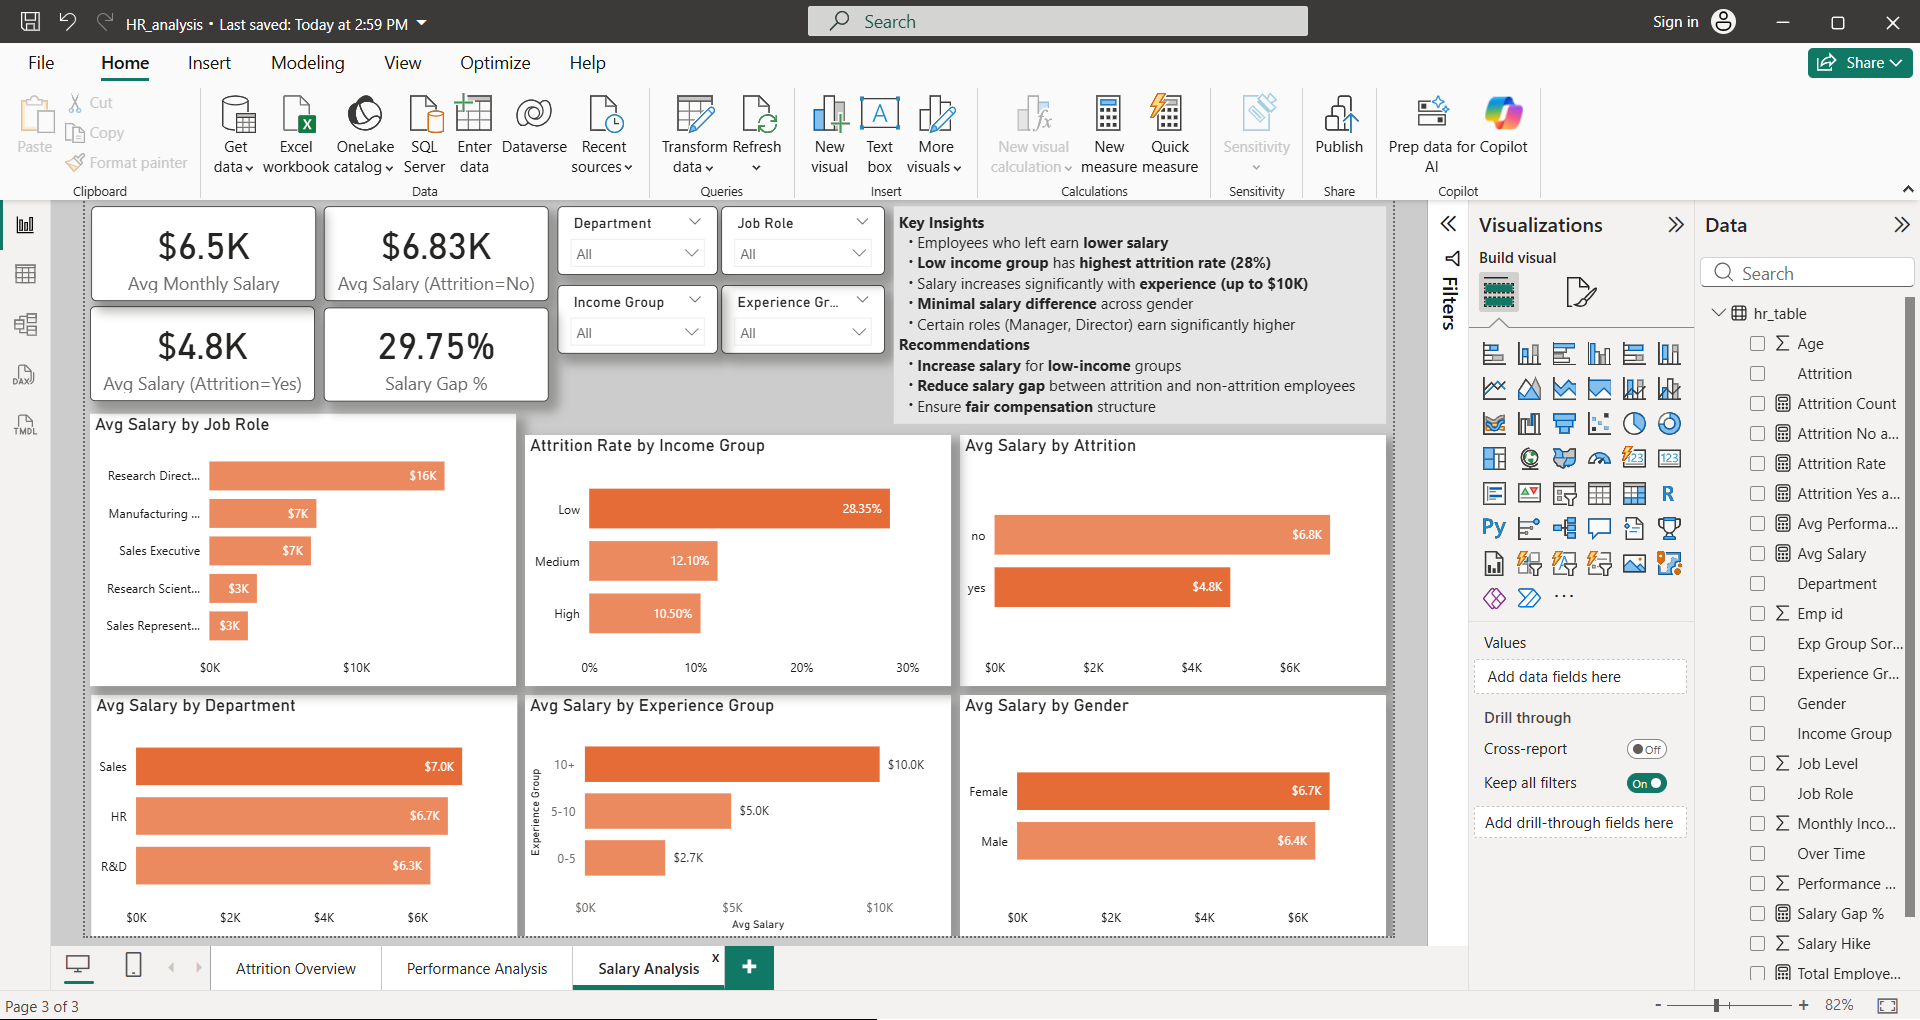

The page's visual inventory and layout, read from the dashboard file:
{"tool":"powerbi","page":{"name":"Salary Analysis","canvas":[1280,720],"ordinal":2},"visuals":[{"type":"barChart","fields":{"Y":["hr_table.Avg Salary"],"Category":["hr_table.Attrition"]},"box":[856,229.9,417,245.8],"z":0},{"type":"clusteredBarChart","fields":{"Category":["hr_table.Department"],"Y":["hr_table.Avg Salary"]},"box":[6.1,484.2,417,236],"z":1000},{"type":"clusteredBarChart","fields":{"Category":["hr_table.Experience Group"],"Y":["hr_table.Avg Salary"]},"box":[430.4,484.2,417,236],"z":2000},{"type":"clusteredBarChart","fields":{"Category":["hr_table.Job Role"],"Y":["hr_table.Avg Salary"]},"box":[4.9,209.1,417,266.6],"z":3000},{"type":"clusteredBarChart","fields":{"Category":["hr_table.Gender"],"Y":["hr_table.Avg Salary"]},"box":[856,484.2,417,236],"z":4000},{"type":"card","fields":{"Values":["hr_table.Attrition No avg salary"]},"box":[233.6,6.1,220.1,92.9],"z":5000},{"type":"card","fields":{"Values":["hr_table.Attrition Yes avg salary"]},"box":[4.9,103.9,220.1,92.9],"z":6000},{"type":"card","fields":{"Values":["hr_table.Avg Salary"]},"box":[6.1,6.1,220.1,92.9],"z":7000},{"type":"slicer","fields":{"Values":["hr_table.department"]},"box":[462.2,6.1,156.5,67.3],"z":8000},{"type":"slicer","fields":{"Values":["hr_table.experience_group"]},"box":[622.4,83.2,160.2,67.3],"z":9000},{"type":"slicer","fields":{"Values":["hr_table.income_group"]},"box":[462.2,83.2,156.5,67.3],"z":10000},{"type":"slicer","fields":{"Values":["hr_table.job_role"]},"box":[622.4,6.1,160.2,67.3],"z":11000},{"type":"clusteredBarChart","fields":{"Y":["hr_table.Attrition Rate"],"Category":["hr_table.Income Group"]},"box":[430.4,229.9,417,245.8],"z":12000},{"type":"card","fields":{"Values":["hr_table.Salary Gap %"]},"box":[233.6,105.2,220.1,91.7],"z":13000},{"type":"textbox","box":[791.2,6.1,481.8,212.8],"z":14000}]}

Visuals, with their boxes on the page's 1280x720 design canvas (x1, y1, x2, y2). These are canvas units, not pixel positions in the 1920x1020 screenshot, which may show the page scaled, cropped or inside an application window:
barChart - hr_table.Avg Salary x hr_table.Attrition: crop(856, 230, 1273, 476)
clusteredBarChart - hr_table.Department x hr_table.Avg Salary: crop(6, 484, 423, 720)
clusteredBarChart - hr_table.Experience Group x hr_table.Avg Salary: crop(430, 484, 847, 720)
clusteredBarChart - hr_table.Job Role x hr_table.Avg Salary: crop(5, 209, 422, 476)
clusteredBarChart - hr_table.Gender x hr_table.Avg Salary: crop(856, 484, 1273, 720)
card - hr_table.Attrition No avg salary: crop(234, 6, 454, 99)
card - hr_table.Attrition Yes avg salary: crop(5, 104, 225, 197)
card - hr_table.Avg Salary: crop(6, 6, 226, 99)
slicer - hr_table.department: crop(462, 6, 619, 73)
slicer - hr_table.experience_group: crop(622, 83, 783, 150)
slicer - hr_table.income_group: crop(462, 83, 619, 150)
slicer - hr_table.job_role: crop(622, 6, 783, 73)
clusteredBarChart - hr_table.Attrition Rate x hr_table.Income Group: crop(430, 230, 847, 476)
card - hr_table.Salary Gap %: crop(234, 105, 454, 197)
textbox: crop(791, 6, 1273, 219)
